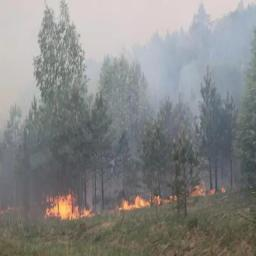Small fire: (43, 183, 223, 223)
